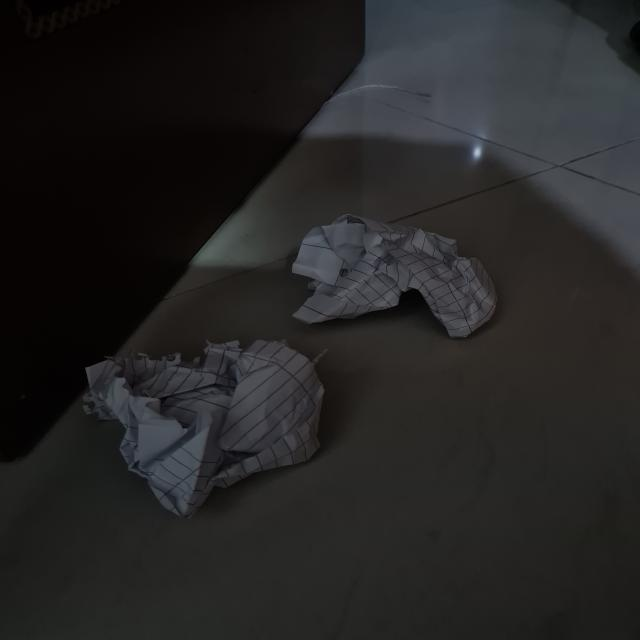Paper: (82, 336, 330, 511), (292, 222, 498, 342)
